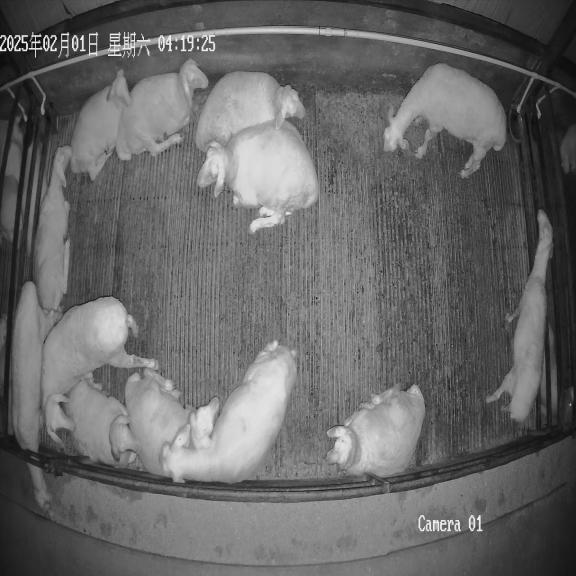eating: (10, 281, 60, 511)
lying: (198, 114, 319, 233), (125, 369, 219, 475), (116, 58, 209, 160), (326, 385, 425, 478), (196, 71, 305, 151), (62, 381, 139, 467), (71, 70, 130, 180), (34, 146, 71, 314)
stand: (162, 341, 297, 483), (41, 296, 158, 445), (486, 210, 553, 422), (384, 63, 506, 178)
